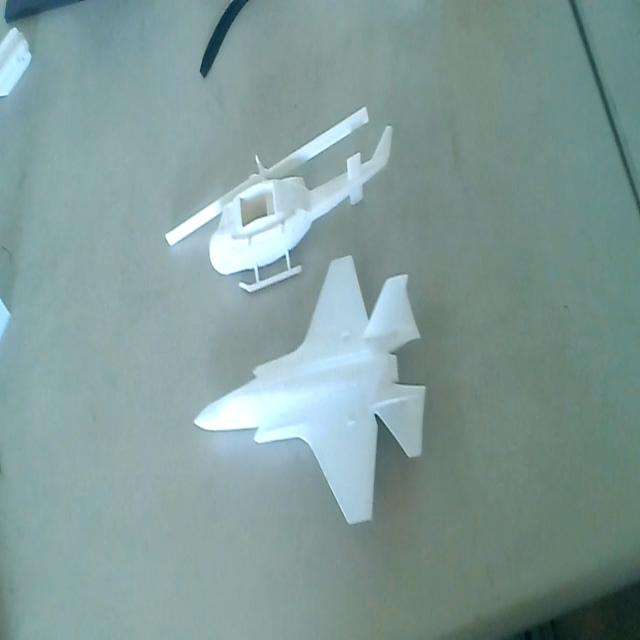Helicopter: (165, 102, 395, 304)
Jet: (194, 252, 432, 534)
